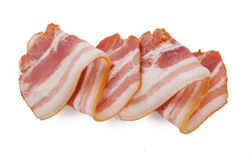bacon: (16, 23, 231, 130)
